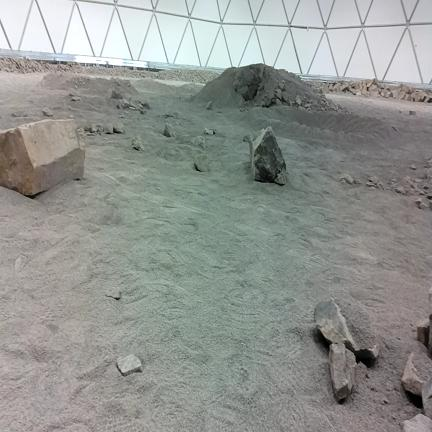Rock: (0, 119, 85, 195), (314, 295, 379, 361), (250, 127, 286, 185), (329, 343, 356, 401), (402, 350, 431, 396), (234, 65, 261, 100), (117, 355, 142, 376), (194, 154, 209, 171), (15, 255, 27, 274), (191, 136, 207, 149), (106, 288, 121, 299), (164, 123, 175, 137), (107, 89, 122, 99), (132, 137, 143, 150), (113, 121, 124, 133), (340, 174, 353, 184), (43, 107, 53, 117), (104, 123, 113, 133), (12, 111, 27, 117), (295, 95, 302, 106), (395, 187, 405, 194), (282, 92, 289, 102), (369, 176, 378, 183), (204, 128, 213, 135), (275, 89, 281, 99), (123, 99, 130, 107), (418, 203, 427, 209), (97, 124, 103, 133), (341, 84, 348, 91), (409, 164, 417, 170), (71, 96, 80, 101), (207, 101, 212, 110), (423, 183, 429, 189), (386, 92, 392, 98), (354, 179, 361, 184), (279, 82, 284, 89), (260, 100, 265, 107), (342, 180, 346, 185), (410, 111, 415, 115), (74, 85, 78, 89), (130, 107, 135, 110), (398, 110, 402, 113)
